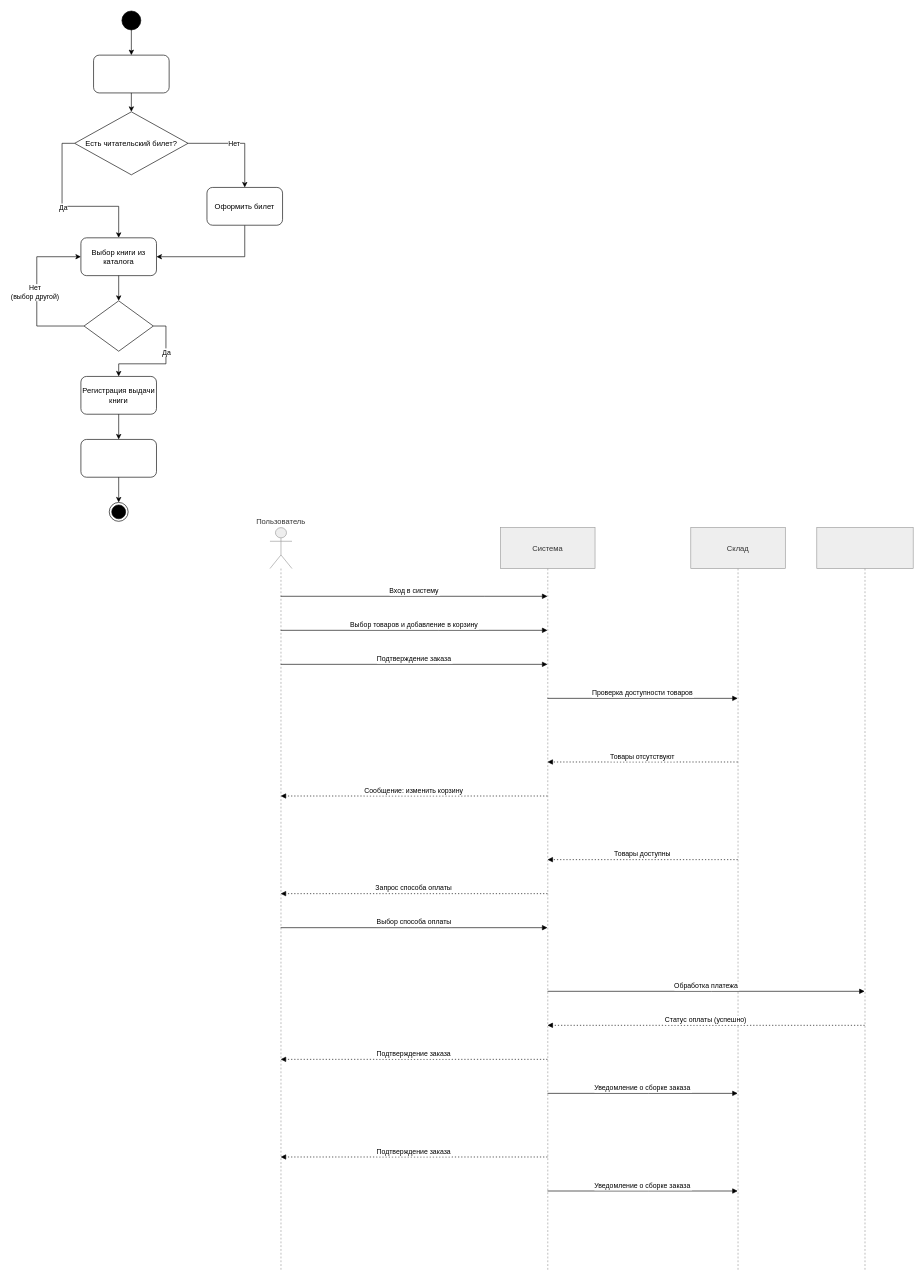
Some shapes in this 924 by 1281 pixel diagram are drawn without their labels. Each missing label, with the box of its shape:
Книга доступна?: (83, 300, 153, 351)
Платежный_шлюз: (816, 527, 913, 1270)
Получение книги: (80, 439, 156, 477)
Приход в библиотеку: (93, 54, 169, 93)
